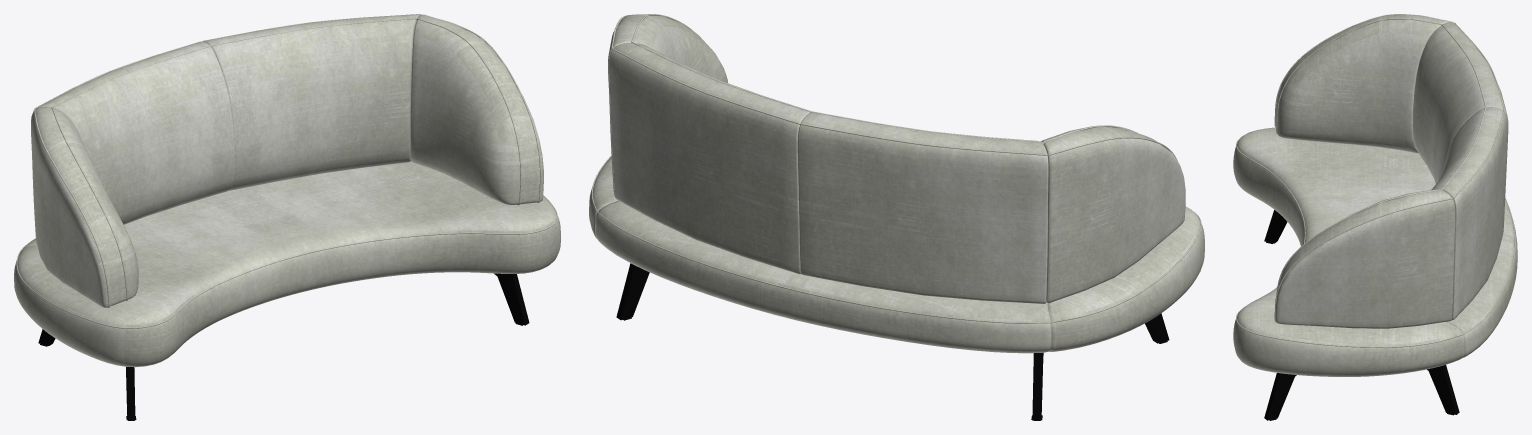
The picture shows the model from 3 angles, left to right: view 1: azimuth 30°, elevation 25°; view 2: azimuth 150°, elevation 25°; view 3: azimuth 270°, elevation 25°; orthographic projection. The views are drawn at different scales.
Parts seen in each view (by area): view 1: sofa_25 (×2), legs_sofa (×2); view 2: sofa_25 (×2), legs_sofa (×2); view 3: sofa_25 (×2), legs_sofa (×2).
Part boxes in pixels (<box>): sofa_25 (×2): <box>14,14,560,367</box>; legs_sofa (×2): <box>38,273,529,420</box>; sofa_25 (×2): <box>589,14,1204,353</box>; legs_sofa (×2): <box>616,263,1169,420</box>; sofa_25 (×2): <box>1233,14,1517,376</box>; legs_sofa (×2): <box>1264,210,1459,420</box>.
Size of what is drawn, in the model's own units: 1.85 by 0.8761 by 1.01.
4 materials, 2 textured.
